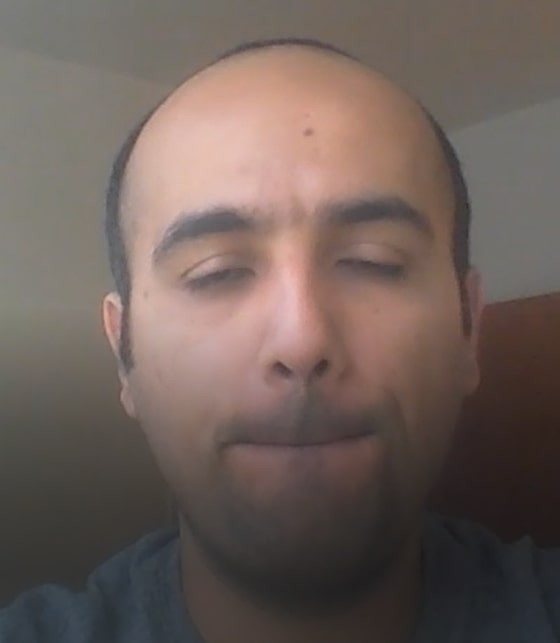Half Asleep: (141, 197, 459, 311)
